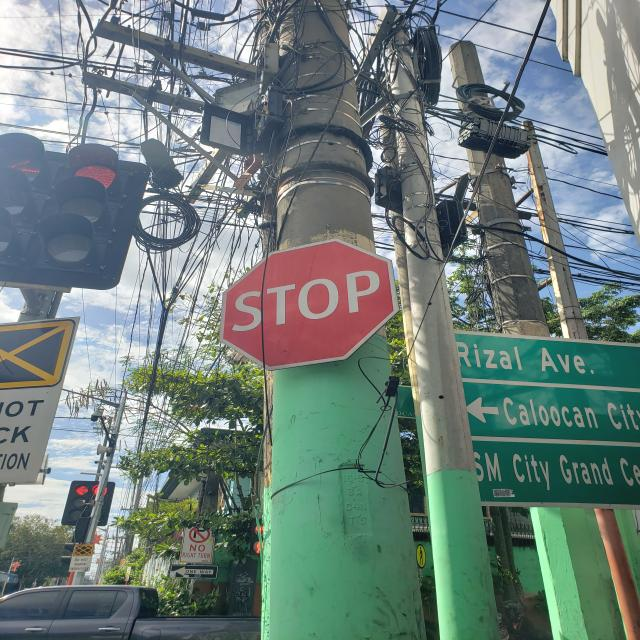stop-sign: (219, 238, 400, 371)
